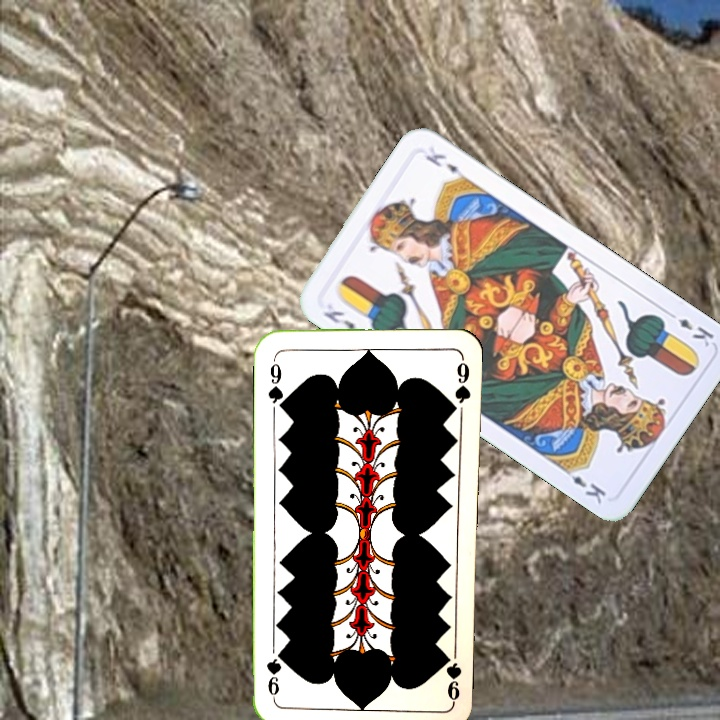EK: (662, 307, 717, 350), (319, 306, 358, 334)
G9: (264, 353, 287, 412), (444, 653, 464, 703)
